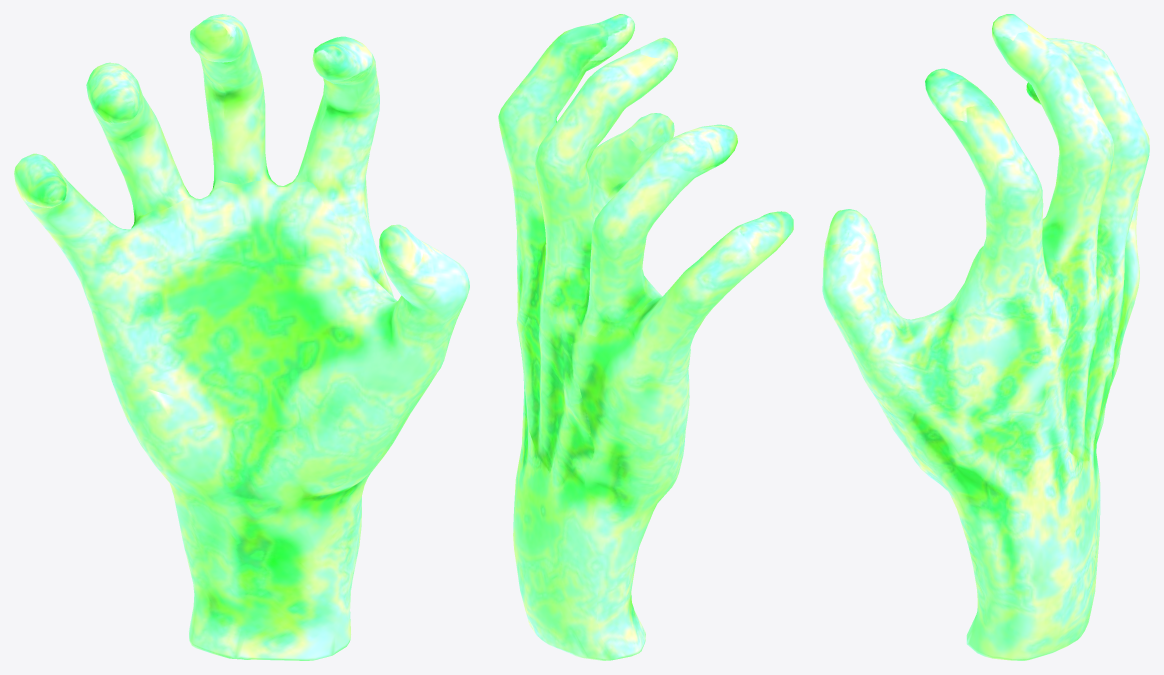
The model's file is MZ4250 - Bigby's Hand_green.glb.
The picture shows the model from 3 angles, left to right: view 1: azimuth 30°, elevation 25°; view 2: azimuth 150°, elevation 25°; view 3: azimuth 270°, elevation 25°; orthographic projection. The views are drawn at different scales.
Parts seen in each view (by area): view 1: Creepy Hand.001; view 2: Creepy Hand.001; view 3: Creepy Hand.001.
Boxes of the visible parts, bbox=[...] form: Creepy Hand.001: bbox=[14, 14, 469, 660]; Creepy Hand.001: bbox=[498, 14, 793, 660]; Creepy Hand.001: bbox=[822, 14, 1149, 660].
Size of the model in its own units: 0.9845 by 1.87 by 0.9446.
1 material, 1 textured.
